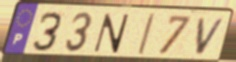3: (32, 10, 65, 52), (64, 10, 95, 54)
7: (157, 14, 194, 57)
I: (135, 12, 157, 57)
N: (91, 12, 132, 55)
V: (194, 17, 228, 56)
